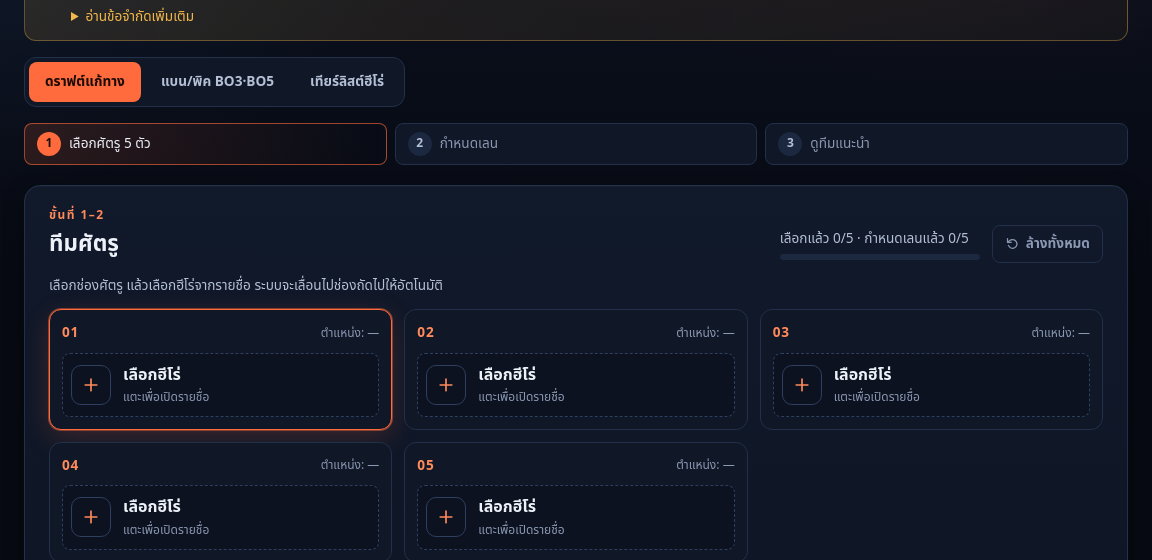
App › มุมมองเทียร์ลิสต์: แสดงเทียร์ กรองบทบาท และเปิดข้อมูลฮีโร่พร้อมลิงก์แหล่งที่มา
Click the button "เทียร์ลิสต์ฮีโร่".
click(347, 82)  # box x1=294 y1=62 x2=400 y2=102
(page scrolled)
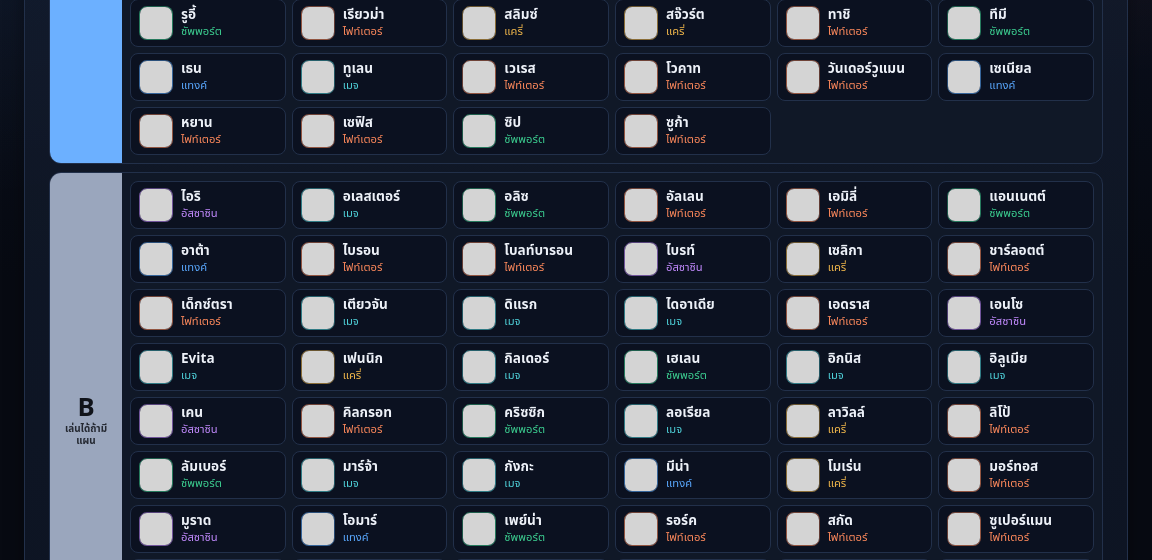
Click the button with test id "tier-hero-airi".
click(208, 205)  # box x1=130 y1=181 x2=286 y2=229
(page scrolled)
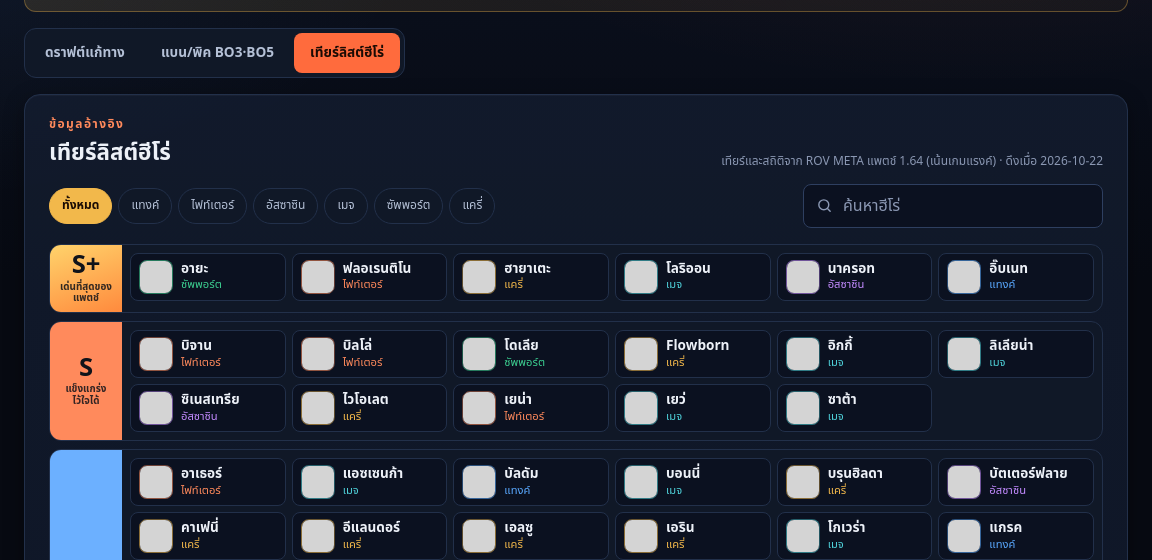
Click the button "แทงค์".
click(145, 206)  # box x1=118 y1=188 x2=172 y2=224
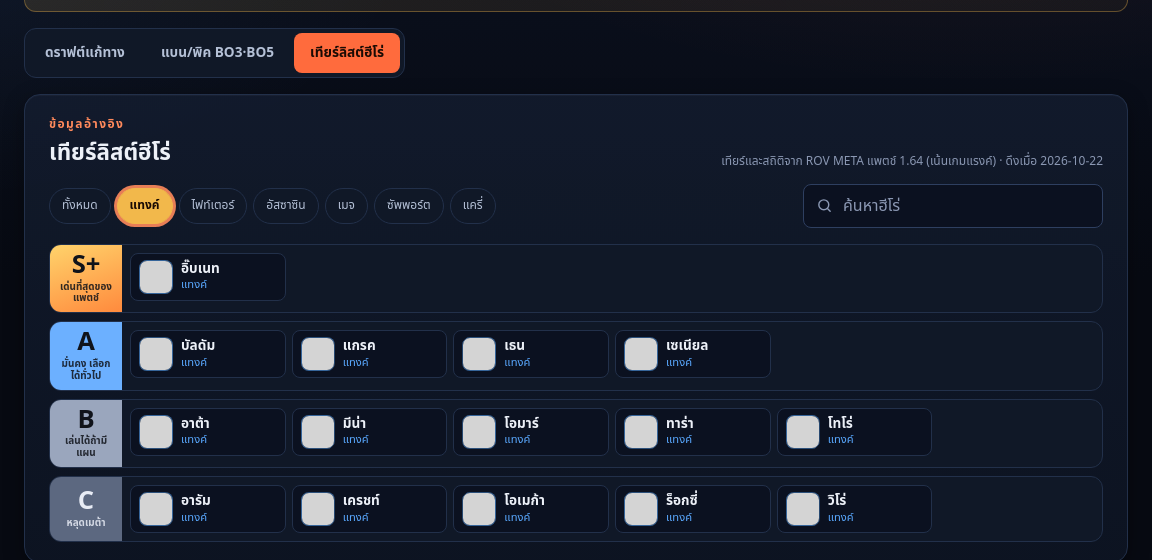
Click the button "ดราฟต์แก้ทาง".
click(85, 53)  # box x1=29 y1=33 x2=141 y2=73
(page scrolled)
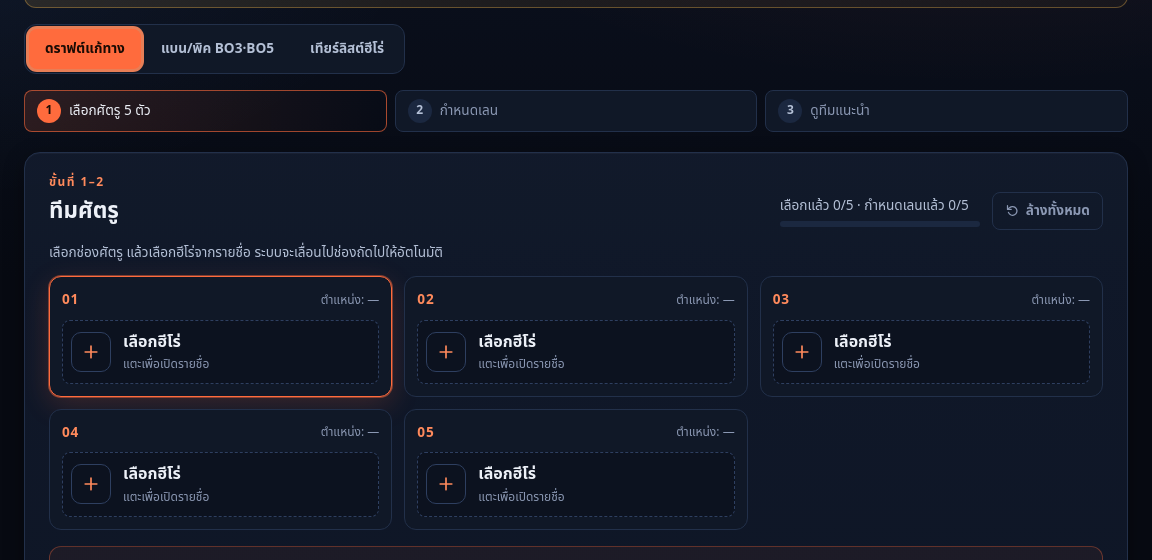
Check: the text "เลือกแล้ว 0/5 · กำหนดเลนแล้ว 0/5" is shown, box x1=780 y1=195 x2=980 y2=217
